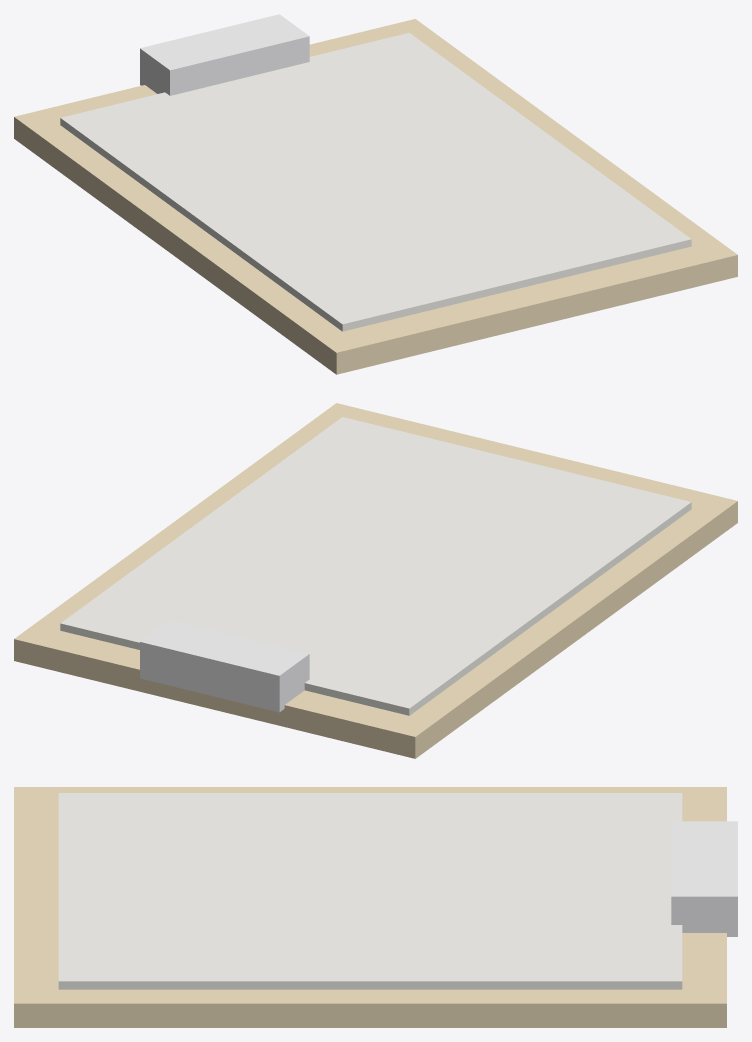
File: clipboard.glb
The picture shows the model from 3 angles, top to bottom: view 1: azimuth 30°, elevation 25°; view 2: azimuth 150°, elevation 25°; view 3: azimuth 270°, elevation 25°; orthographic projection. The views are drawn at different scales.
Parts seen in each view (by area): view 1: clipboard; view 2: clipboard; view 3: clipboard.
Boxes of the visible parts, x1,y1,x2,y2 form: clipboard: [14, 14, 737, 374]; clipboard: [14, 403, 737, 758]; clipboard: [14, 787, 737, 1027].
Bounding box in the file's own units: 0.23 × 0.03 × 0.325.
